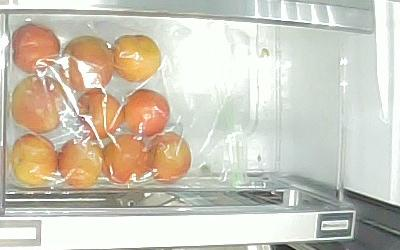prune_vinyl: (11, 74, 66, 133), (61, 36, 113, 94), (9, 133, 58, 188), (75, 89, 126, 141), (11, 24, 61, 74), (101, 135, 151, 184), (113, 34, 161, 83), (123, 88, 171, 136), (57, 139, 104, 188), (148, 132, 191, 182)
